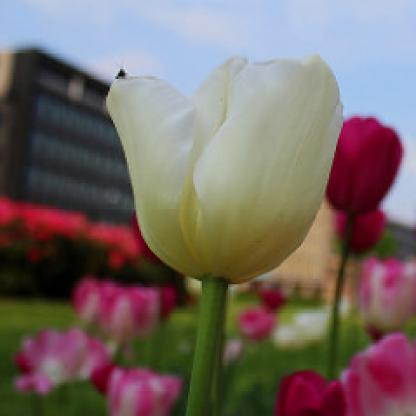TULIP: (95, 27, 353, 304)
